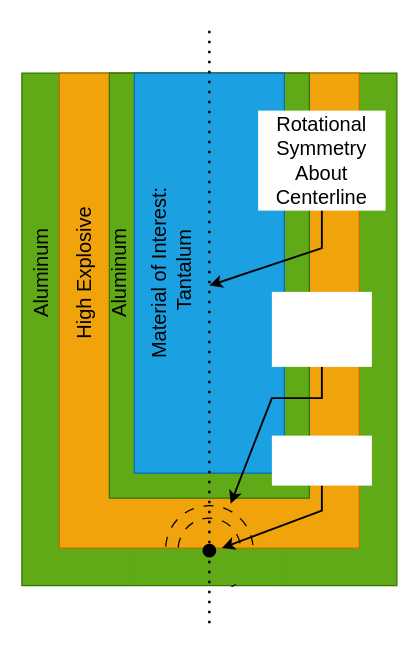
Some shapes in this 419 by 646 pixel diagram are drawn without their labels. The shapes that lost their labels are listed below. From the top down, each one's centre as x and y in pixels, then its label:
At (x=321, y=328): "Spherical Detonation Wave".
At (x=321, y=460): "Detonation Point".
